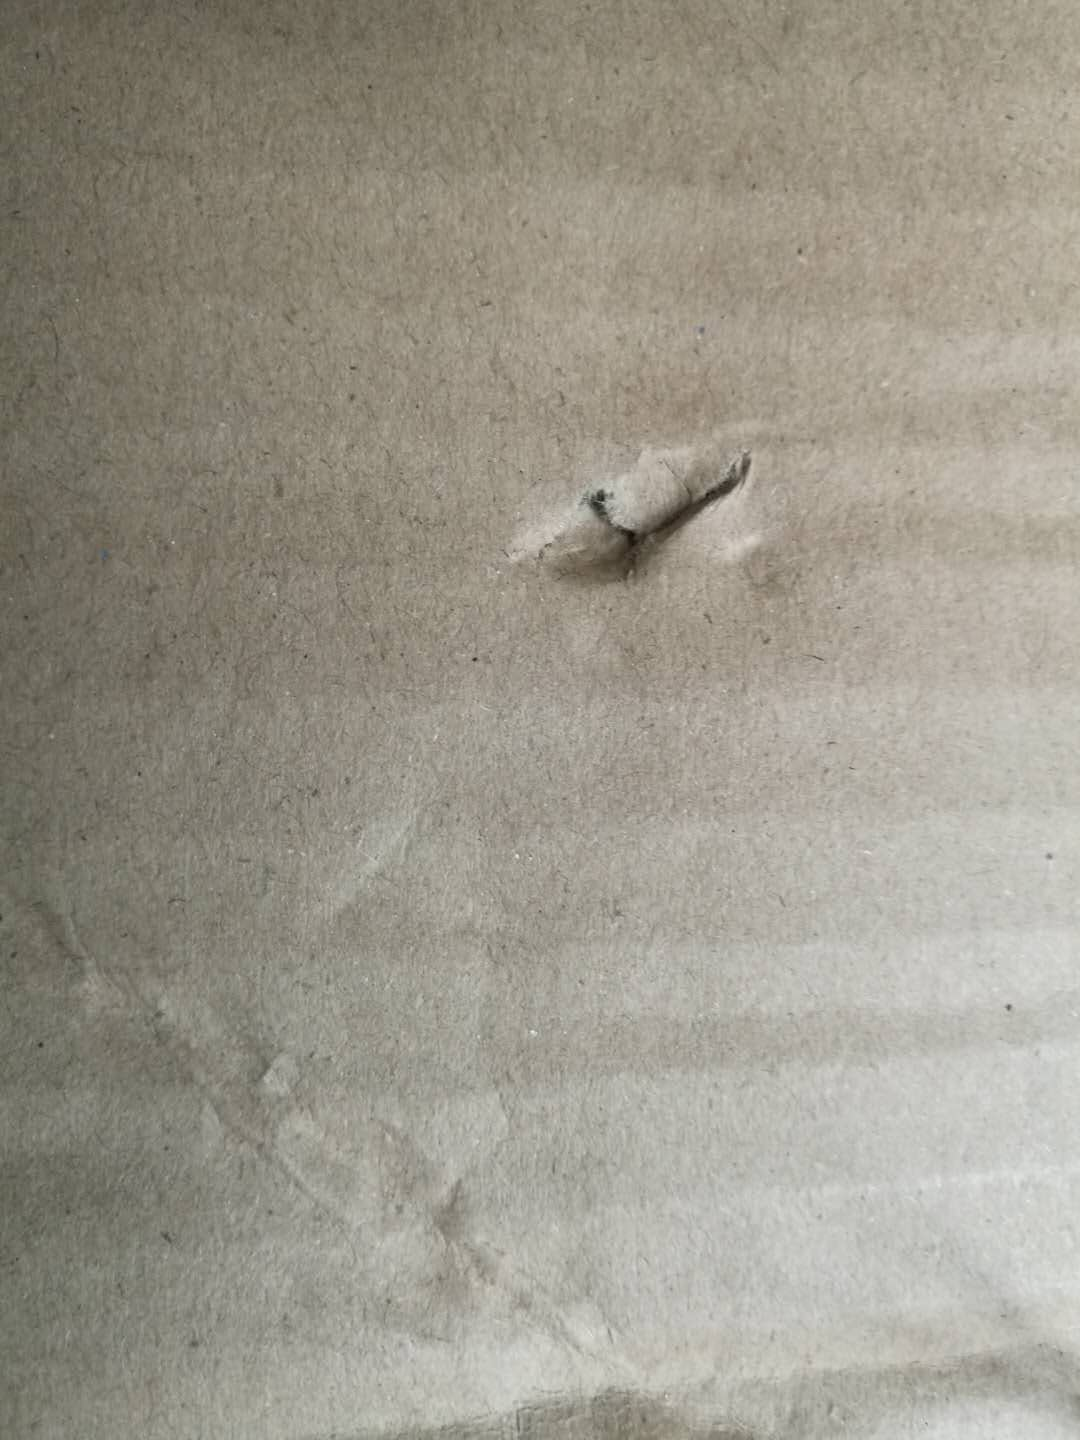defect: (5, 785, 1080, 1440), (469, 390, 1080, 630)
